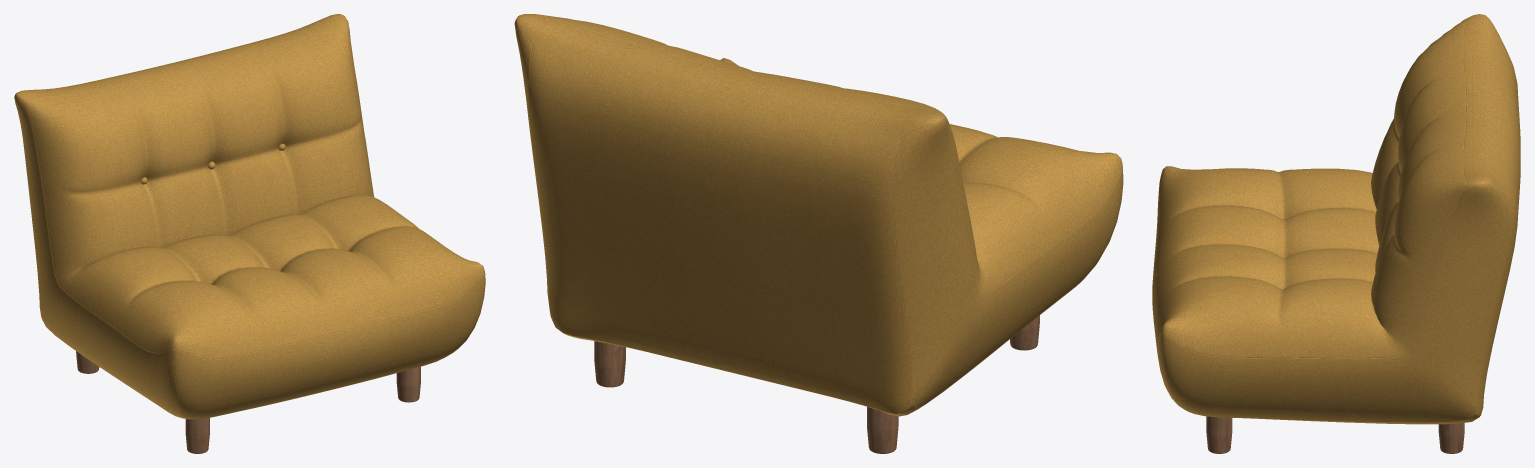
File: couch.gltf
3 views of the same model, side by side, from view 1: azimuth 30°, elevation 25°; view 2: azimuth 150°, elevation 25°; view 3: azimuth 270°, elevation 25° (orthographic). The views are drawn at different scales.
Parts seen in each view (by area): view 1: Couch; view 2: Couch; view 3: Couch.
Boxes of the visible parts, x1,y1,x2,y2 form: Couch: (14,14,485,453); Couch: (514,14,1123,453); Couch: (1152,14,1520,453).
Bounding box in the file's own units: 1.04 × 0.8454 × 0.9492.
1 material, 1 textured.
